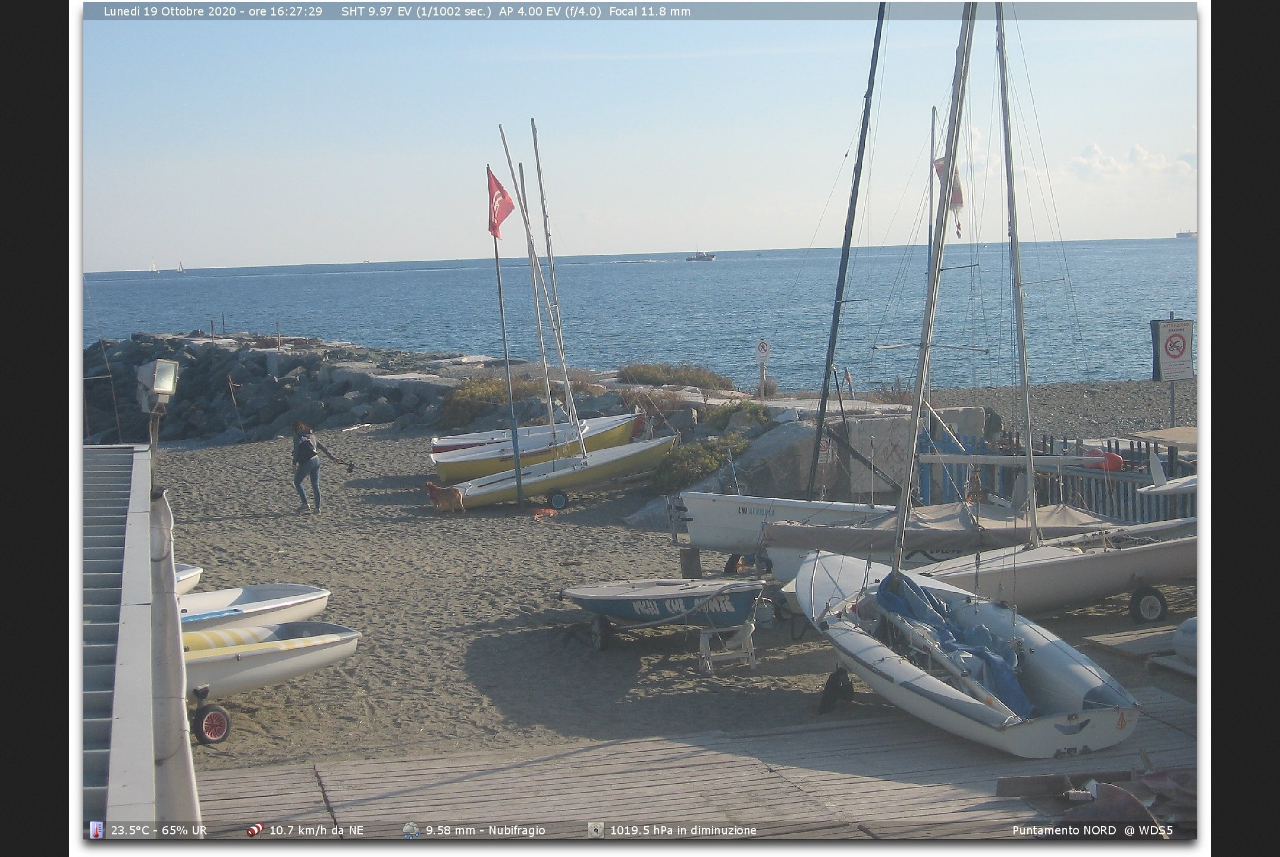maybe: (479, 166, 516, 240)
